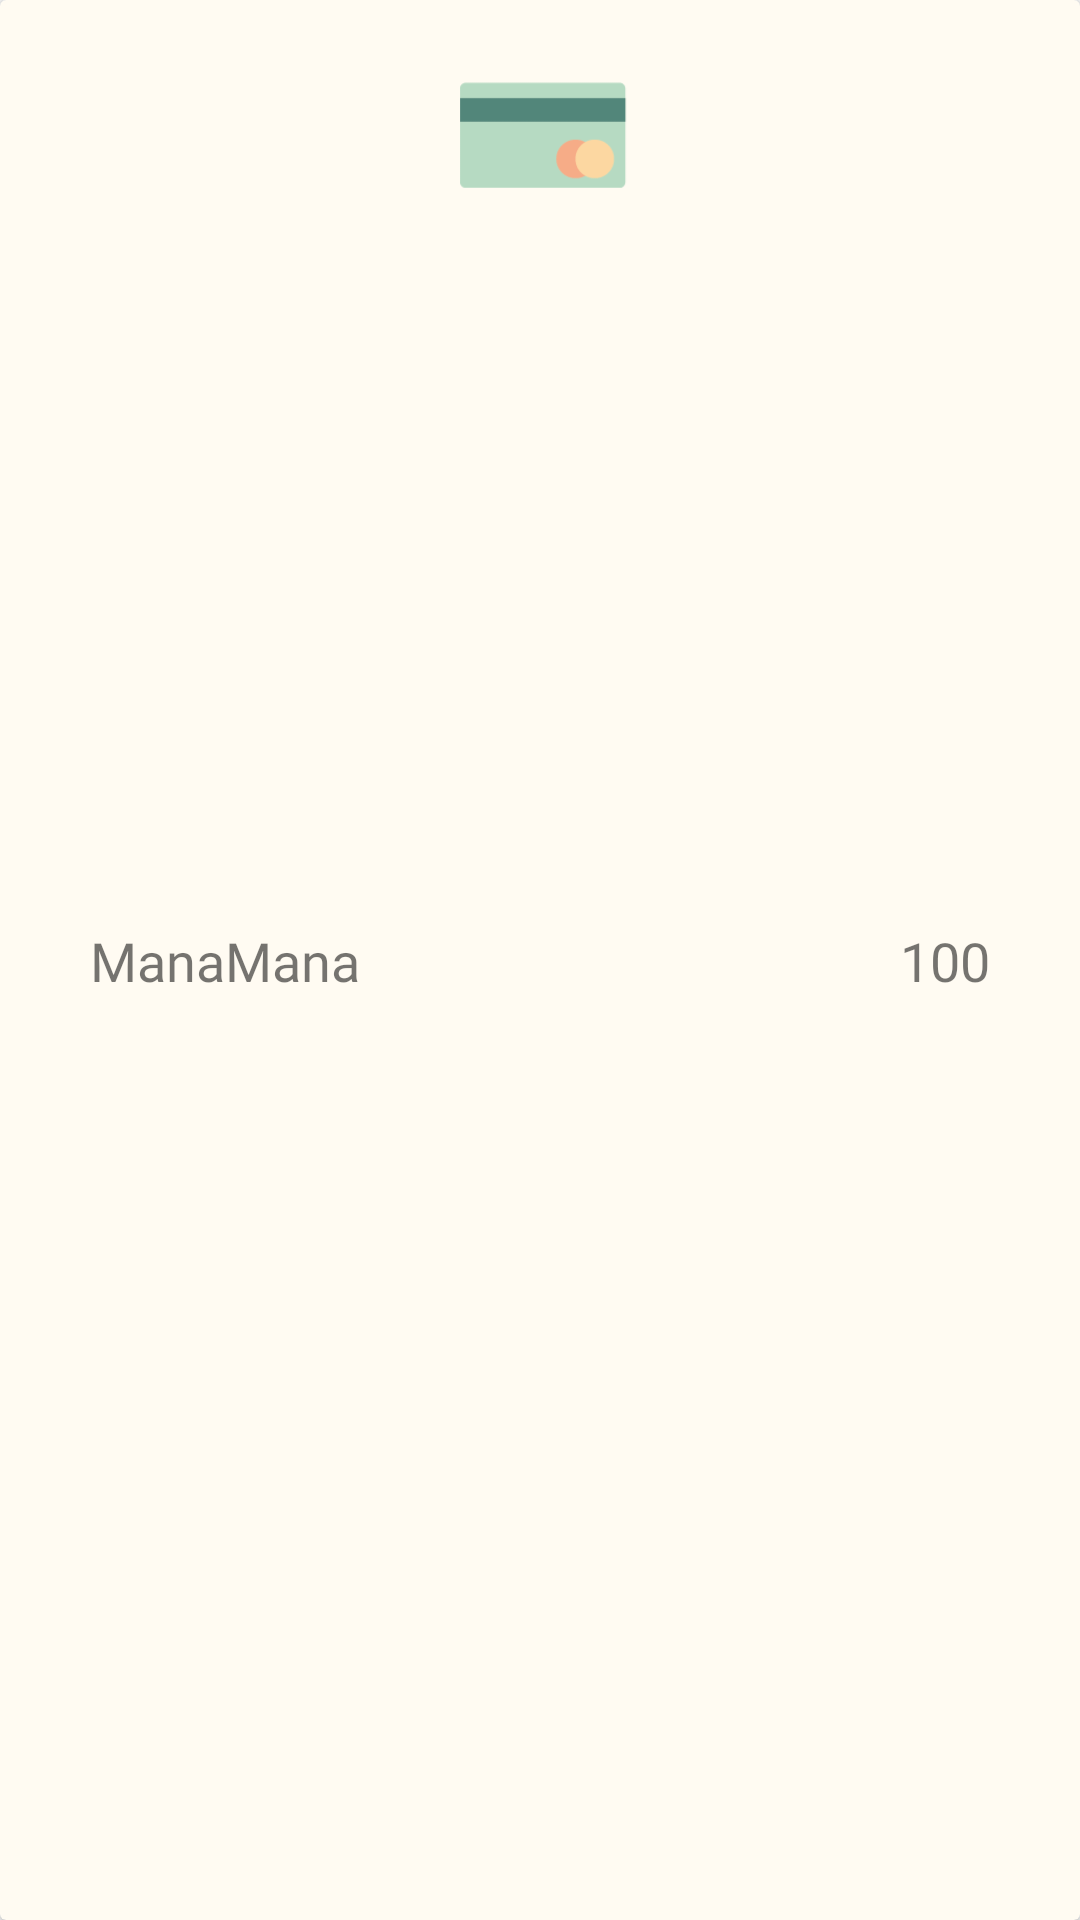

Named icons in this screenshot (1080*1920) and their centers, [x,y]:
credit: [543,135]
